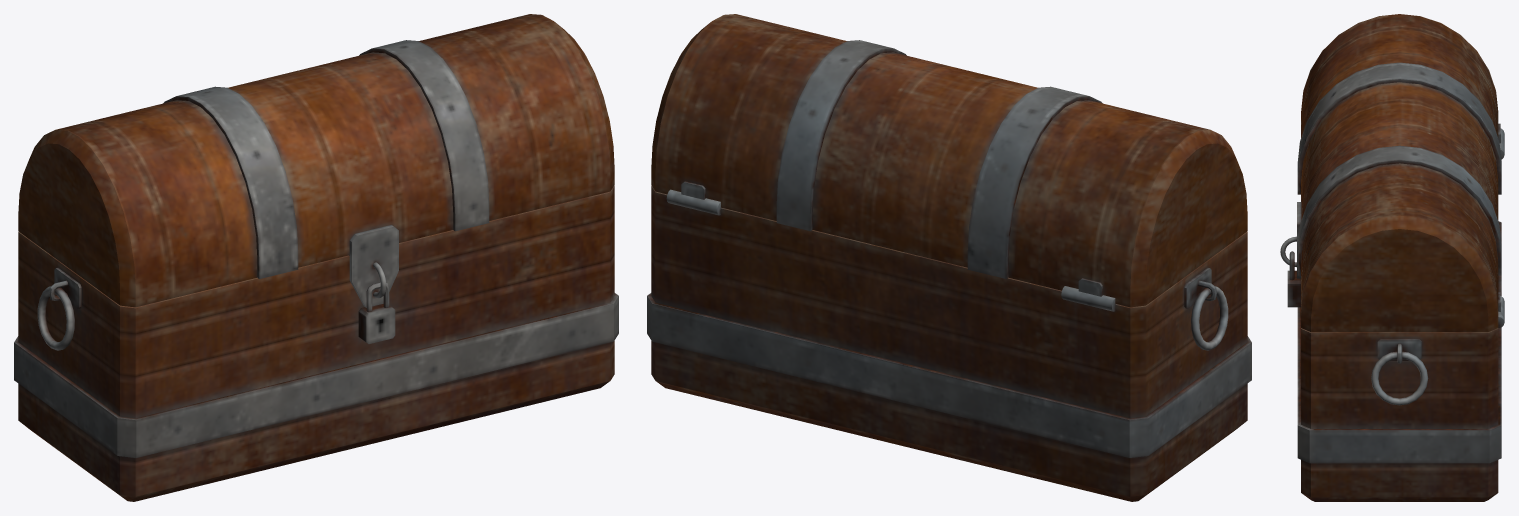
File: chest.glb
The picture shows the model from 3 angles, left to right: view 1: azimuth 30°, elevation 25°; view 2: azimuth 150°, elevation 25°; view 3: azimuth 270°, elevation 25°; orthographic projection. The views are drawn at different scales.
Parts seen in each view (by area): view 1: lower.001; view 2: lower.001; view 3: lower.001.
Boxes of the visible parts, left/top/right/bottom form: lower.001: left=14, top=14, right=618, bottom=501; lower.001: left=647, top=14, right=1251, bottom=501; lower.001: left=1280, top=14, right=1504, bottom=501.
Bounding box in the file's own units: 1.48 × 0.8769 × 0.6154.
1 material, 1 textured.
